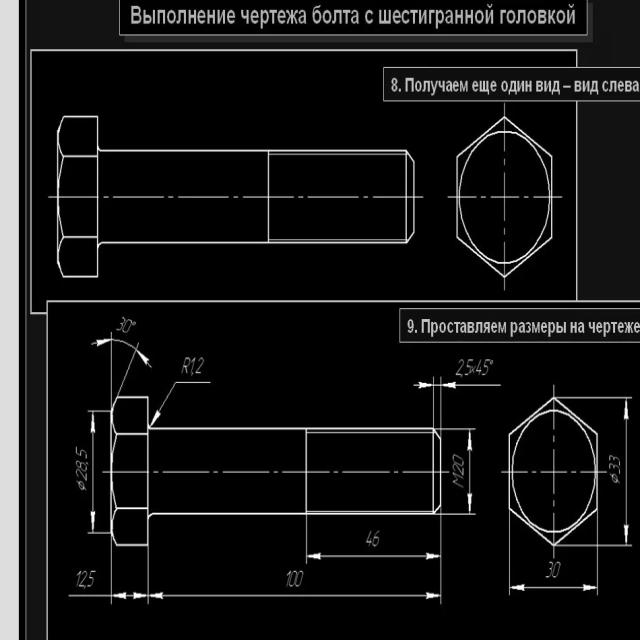marking_line: (149, 381, 231, 427), (150, 590, 442, 602), (92, 337, 151, 396), (308, 553, 442, 562), (89, 412, 98, 532), (510, 584, 597, 594), (111, 588, 147, 604)
numeric: (454, 354, 498, 380), (450, 449, 466, 495), (71, 445, 89, 482), (182, 356, 208, 381), (76, 565, 99, 590), (544, 558, 562, 581), (114, 315, 132, 336), (366, 531, 383, 550)
special_symbol: (74, 479, 89, 496), (608, 471, 623, 488), (132, 321, 138, 328)
